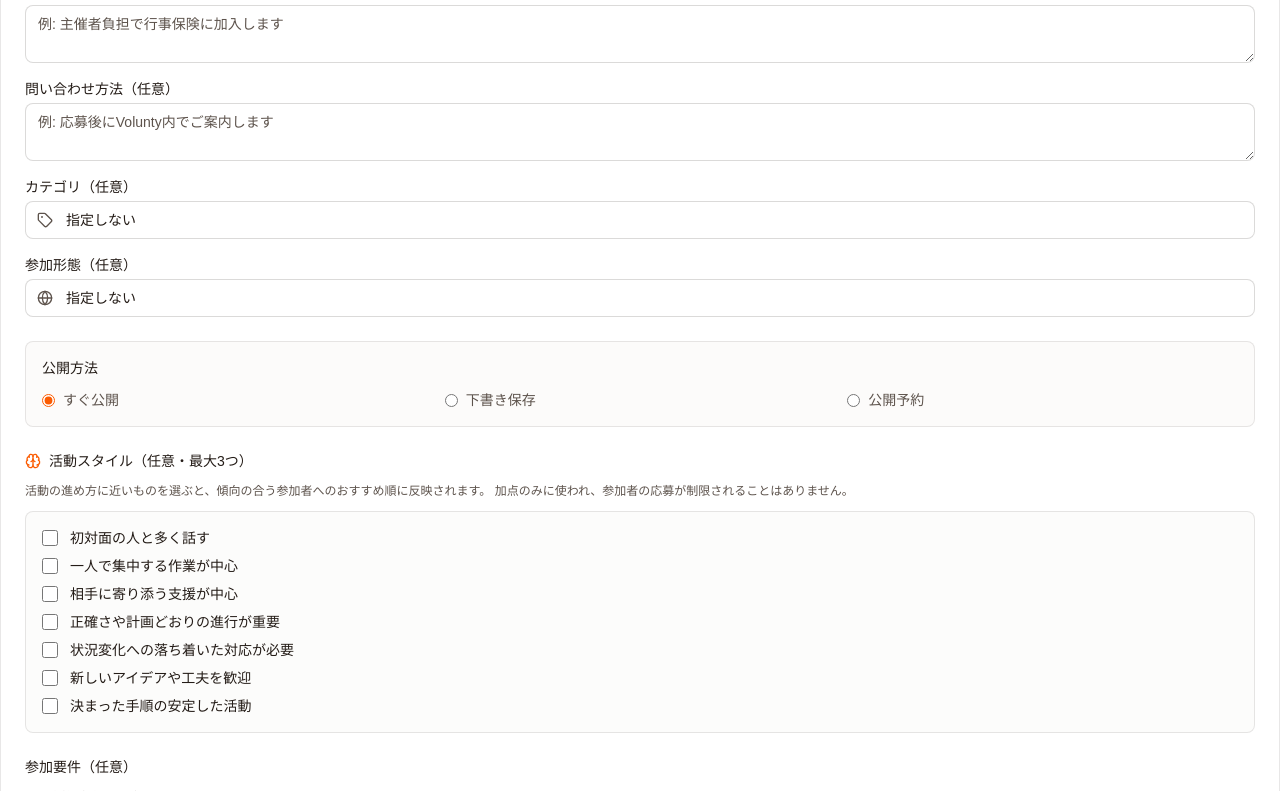
Scenario: OpportunityForm の公開予約 › JSTの説明、分単位の入力、現在より後の分をminに設定する
(page scrolled)
Click the radio button labelled "公開予約".
click(854, 400)  # box 847,394 -> 860,406
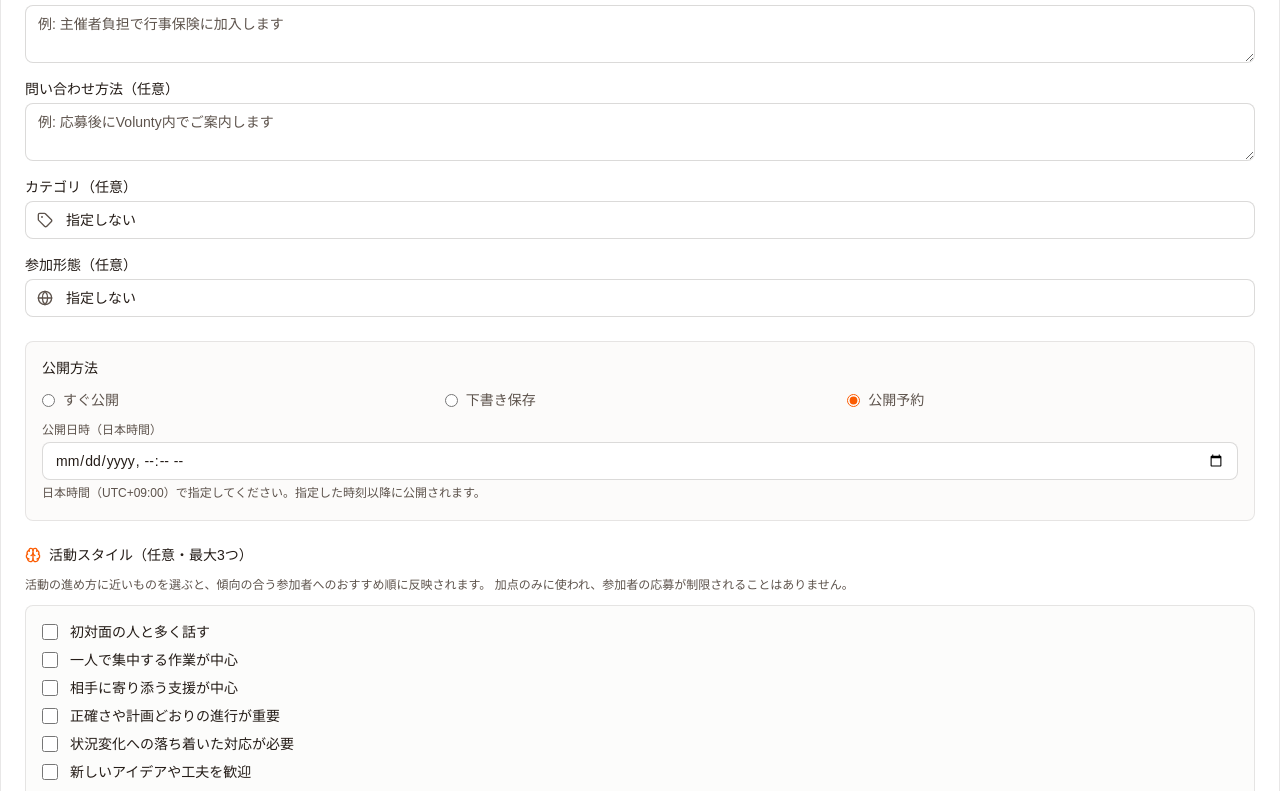
Expected: the text "日本時間（UTC+09:00）で指定してください。指定した時刻以降に公開されます。" is shown, 42,486 -> 486,500
